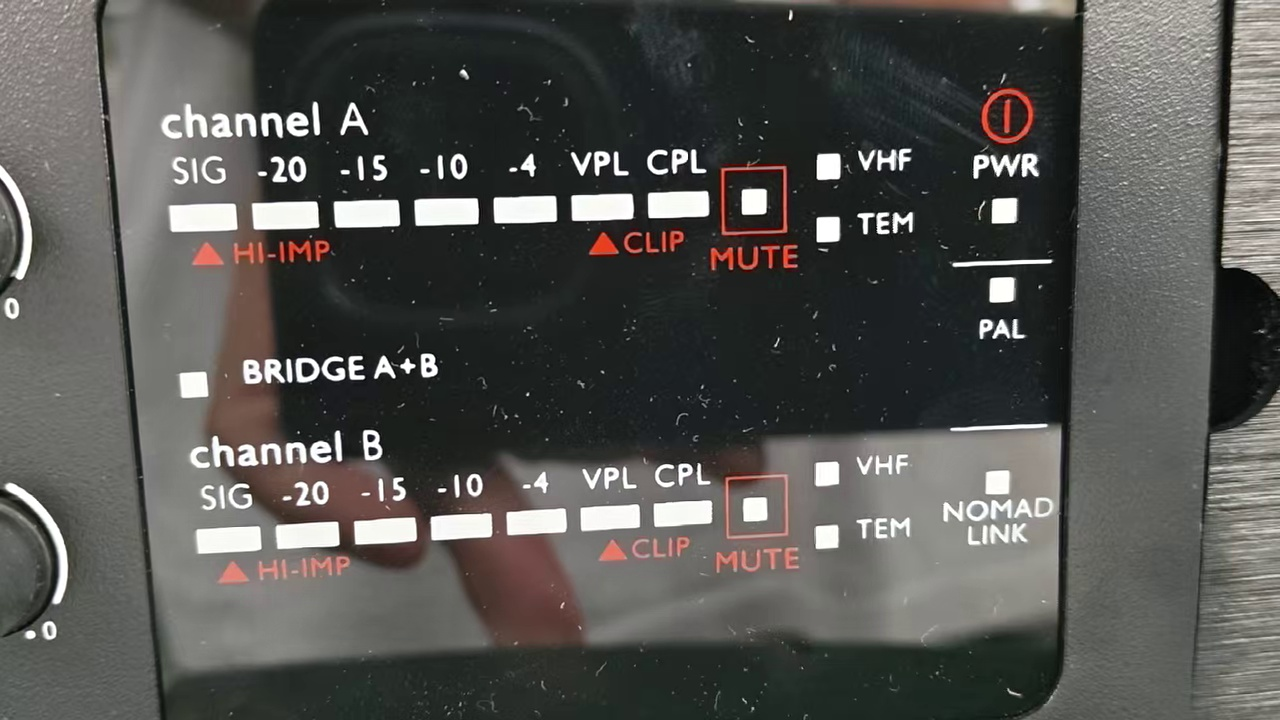FP_CPL: (640, 139, 712, 229), (649, 455, 716, 533)
FP_PWR: (955, 149, 1044, 236)
FP_PWR_area: (949, 81, 1055, 261)
FP_SIG_area: (190, 427, 914, 590), (161, 139, 926, 282)
FP_VPL: (564, 137, 638, 228), (574, 456, 643, 534)
